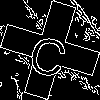C: (25, 25, 73, 80)
